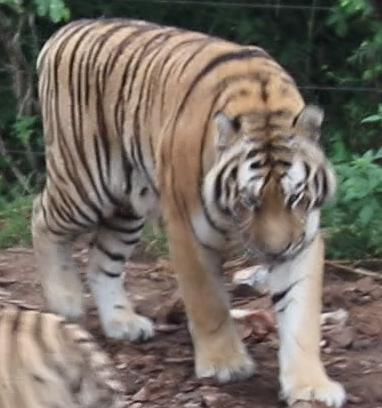tiger: (32, 19, 344, 407)
